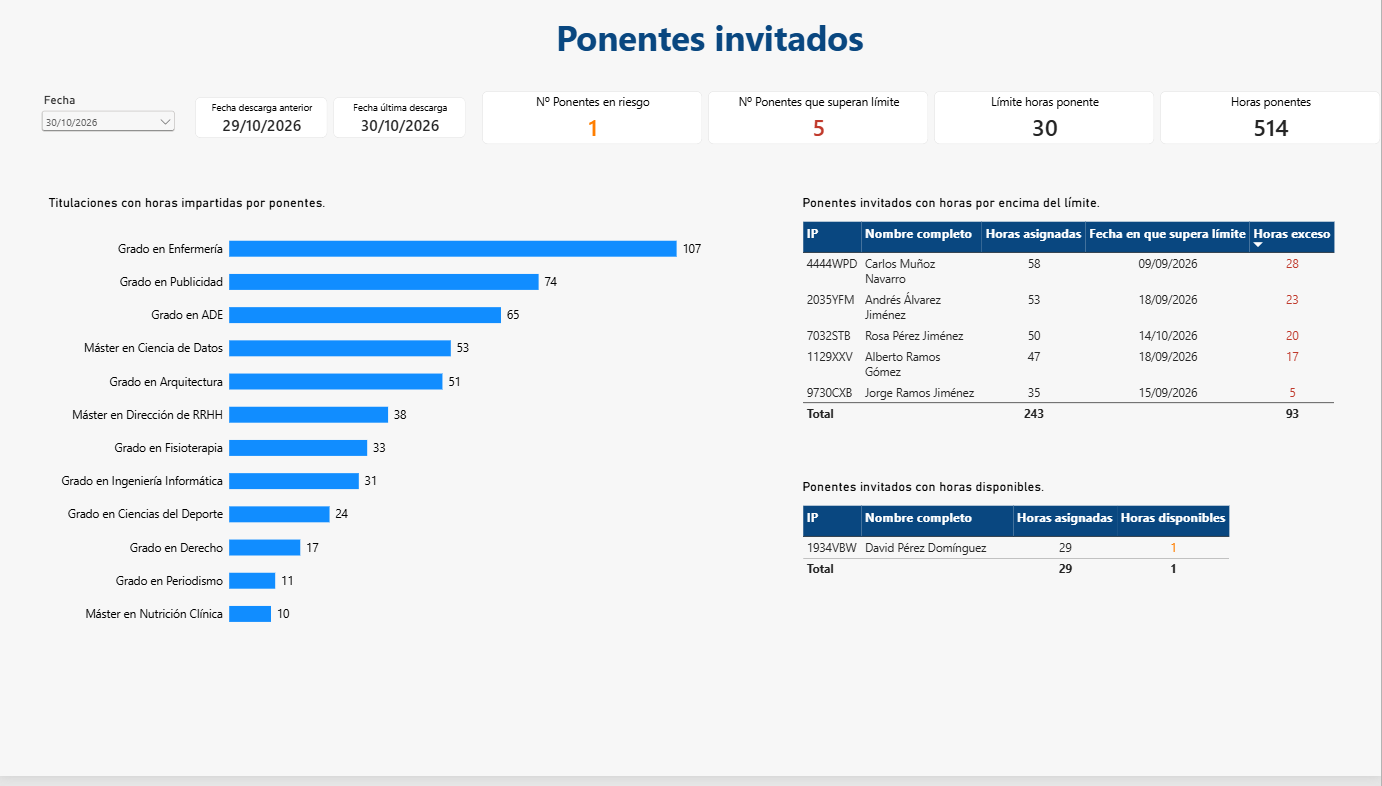

The dashboard page shown, as its layout file describes it:
{"tool":"powerbi","page":{"name":"Ponentes invitados","canvas":[1920,1080],"ordinal":3},"visuals":[{"type":"tableEx","title":"Ponentes invitados con horas por encima del límite.","fields":{"Values":["Personal.ip","Personal.Nombre completo","Medidas.Horas asignadas","Medidas.Fecha en que supera limite","Medidas.Horas exceso"]},"box":[1100.1,259.7,785.9,354.9],"z":0},{"type":"textbox","box":[667.9,21.5,638.2,93.7],"z":1000},{"type":"group","id":"g1","title":"Grupo 1","box":[53.6,129.2,1866.4,74.2],"z":2000},{"type":"slicer","fields":{"Values":["Calendario.Fecha"]},"box":[53.6,130.6,195.2,72.8],"z":2000,"group":"g1"},{"type":"clusteredBarChart","title":"Titulaciones con horas impartidas por ponentes.","fields":{"Category":["Asignaturas.Titulación"],"Y":["Medidas.Horas ponentes"]},"box":[53,259.7,938.6,642.3],"z":3000},{"type":"tableEx","title":"Ponentes invitados con horas disponibles.","fields":{"Values":["Personal.ip","Personal.Nombre completo","Medidas.Horas asignadas","Medidas.Horas disponibles"]},"box":[1100.1,654.1,648.6,212.1],"z":4000},{"type":"cardVisual","fields":{"Data":["Medidas.Nº ponentes en riesgo","Medidas.Nº Ponentes superan limite","Medidas.Limite horas ponente","Medidas.Horas ponentes"]},"box":[670.7,129.2,1249.3,74.2],"z":6000,"group":"g1"},{"type":"cardVisual","fields":{"Data":["Medidas.Fecha descarga anterior","Medidas.Fecha última descarga"]},"box":[271.4,137.4,376.6,57.7],"z":7000,"group":"g1"}]}

Visuals, with their boxes in screenshot pixels (x1, y1, x2, y2), scaled from the page's 1920x1080 canvas onto the 1382x786 screenshot:
"Ponentes invitados con horas por encima del límite." tableEx: left=792, top=189, right=1358, bottom=447
textbox: left=481, top=16, right=940, bottom=84
"Grupo 1" group: left=39, top=94, right=1381, bottom=148
slicer - Calendario.Fecha: left=39, top=95, right=179, bottom=148
"Titulaciones con horas impartidas por ponentes." clusteredBarChart: left=38, top=189, right=714, bottom=656
"Ponentes invitados con horas disponibles." tableEx: left=792, top=476, right=1259, bottom=630
cardVisual - Medidas.Nº ponentes en riesgo x Medidas.Nº Ponentes superan limite: left=483, top=94, right=1381, bottom=148
cardVisual - Medidas.Fecha descarga anterior x Medidas.Fecha última descarga: left=195, top=100, right=466, bottom=142
